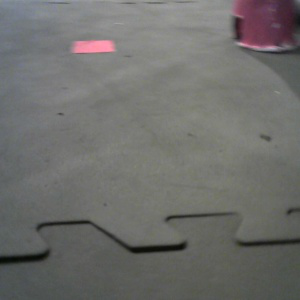Right: (230, 1, 300, 50)
